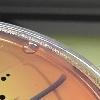black: (0, 93, 6, 100), (6, 72, 12, 78), (1, 76, 7, 82)
